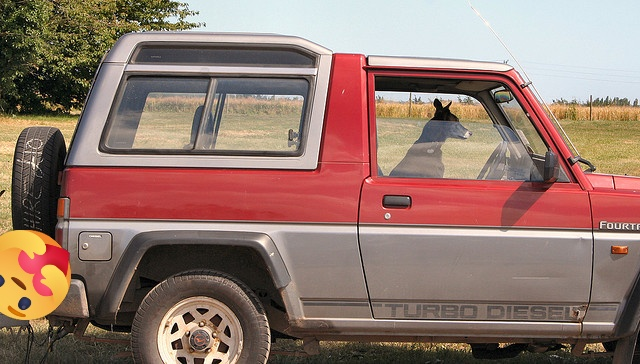care: (0, 230, 71, 320)
